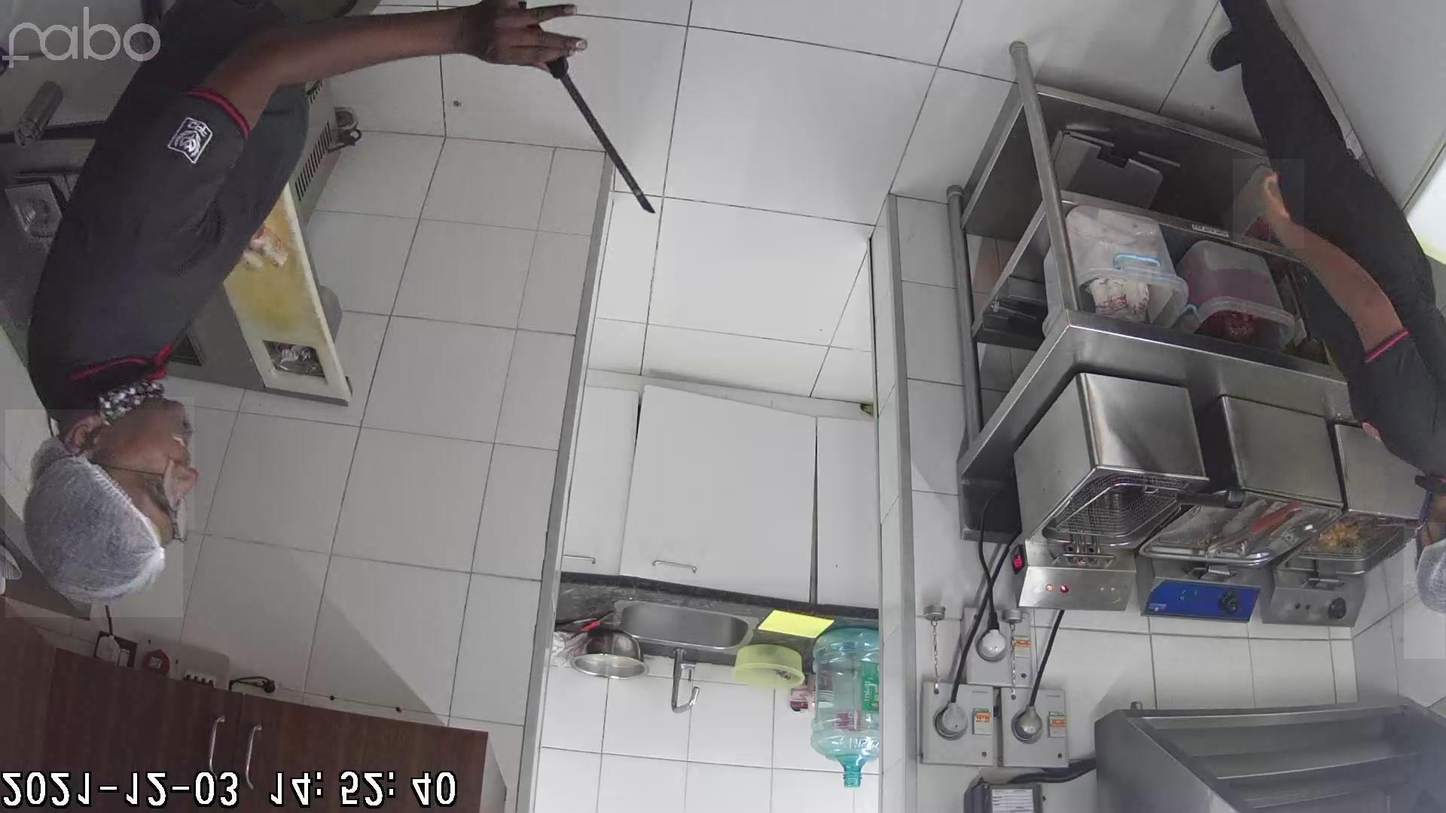gloves: (6, 410, 183, 617), (1404, 522, 1446, 659)
no_apron: (447, 0, 620, 111), (1234, 159, 1305, 249)
no_hairnet: (110, 397, 195, 530)
